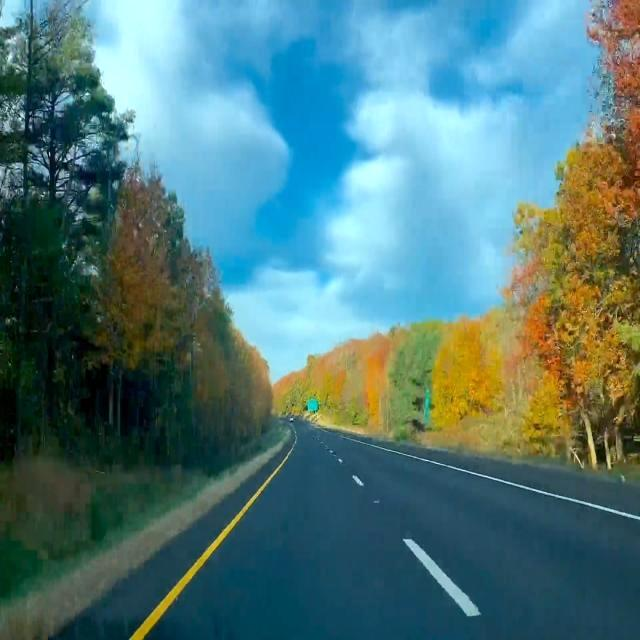road: (146, 420, 639, 639), (51, 458, 278, 639), (364, 439, 639, 515)
